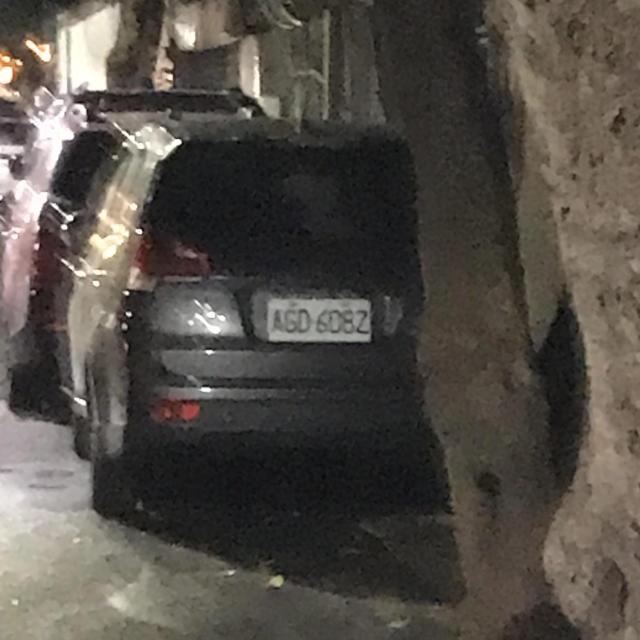W: (259, 290, 380, 353)
